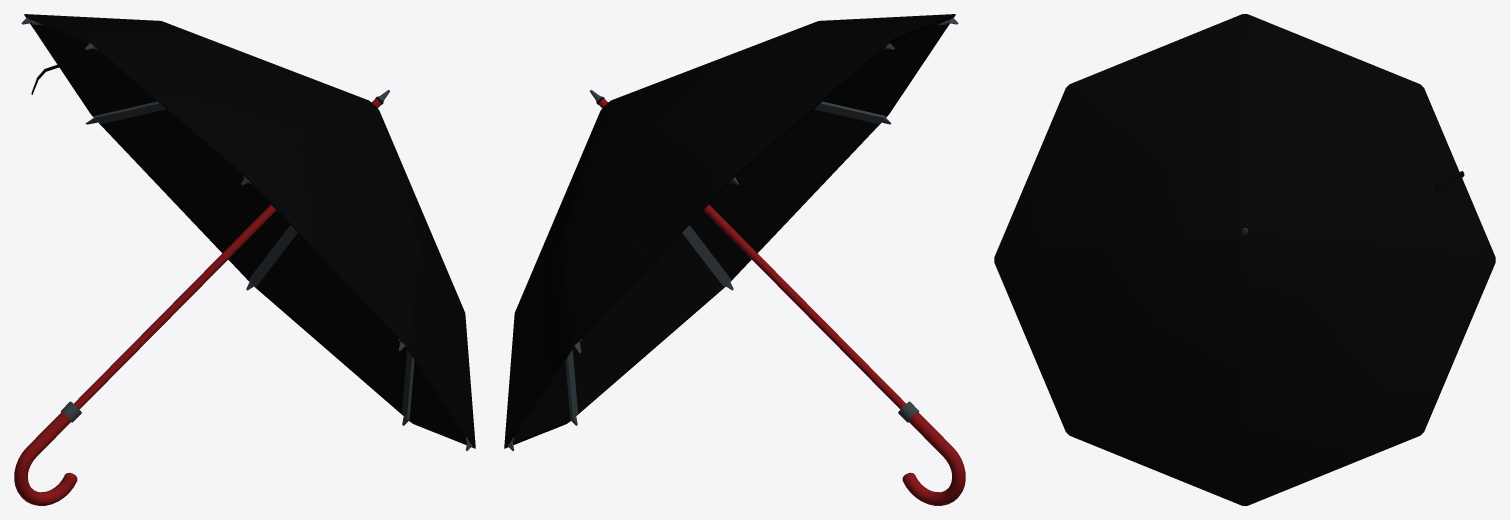
The picture shows the model from 3 angles, left to right: view 1: azimuth 30°, elevation 25°; view 2: azimuth 150°, elevation 25°; view 3: azimuth 270°, elevation 25°; orthographic projection. The views are drawn at different scales.
Visible parts, largest first — view 1: classic_umbrela_opened; view 2: classic_umbrela_opened; view 3: classic_umbrela_opened.
Boxes of the visible parts, x1,y1,x2,y2 form: classic_umbrela_opened: (14, 14, 475, 505); classic_umbrela_opened: (504, 14, 965, 505); classic_umbrela_opened: (994, 14, 1495, 505).
Size of the model in its own units: 115 by 154 by 125.
